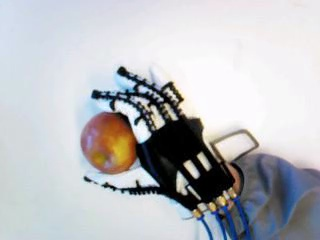apple: (81, 110, 138, 174)
hand: (83, 68, 235, 220), (81, 110, 138, 174)
